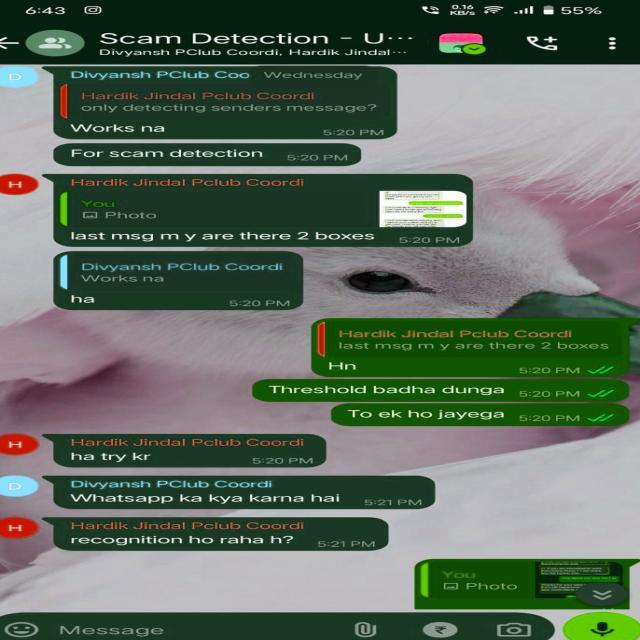scam: (53, 142, 362, 167), (55, 118, 403, 140), (57, 231, 474, 248), (55, 492, 438, 508), (53, 289, 310, 312), (58, 533, 392, 550), (59, 450, 324, 468)
